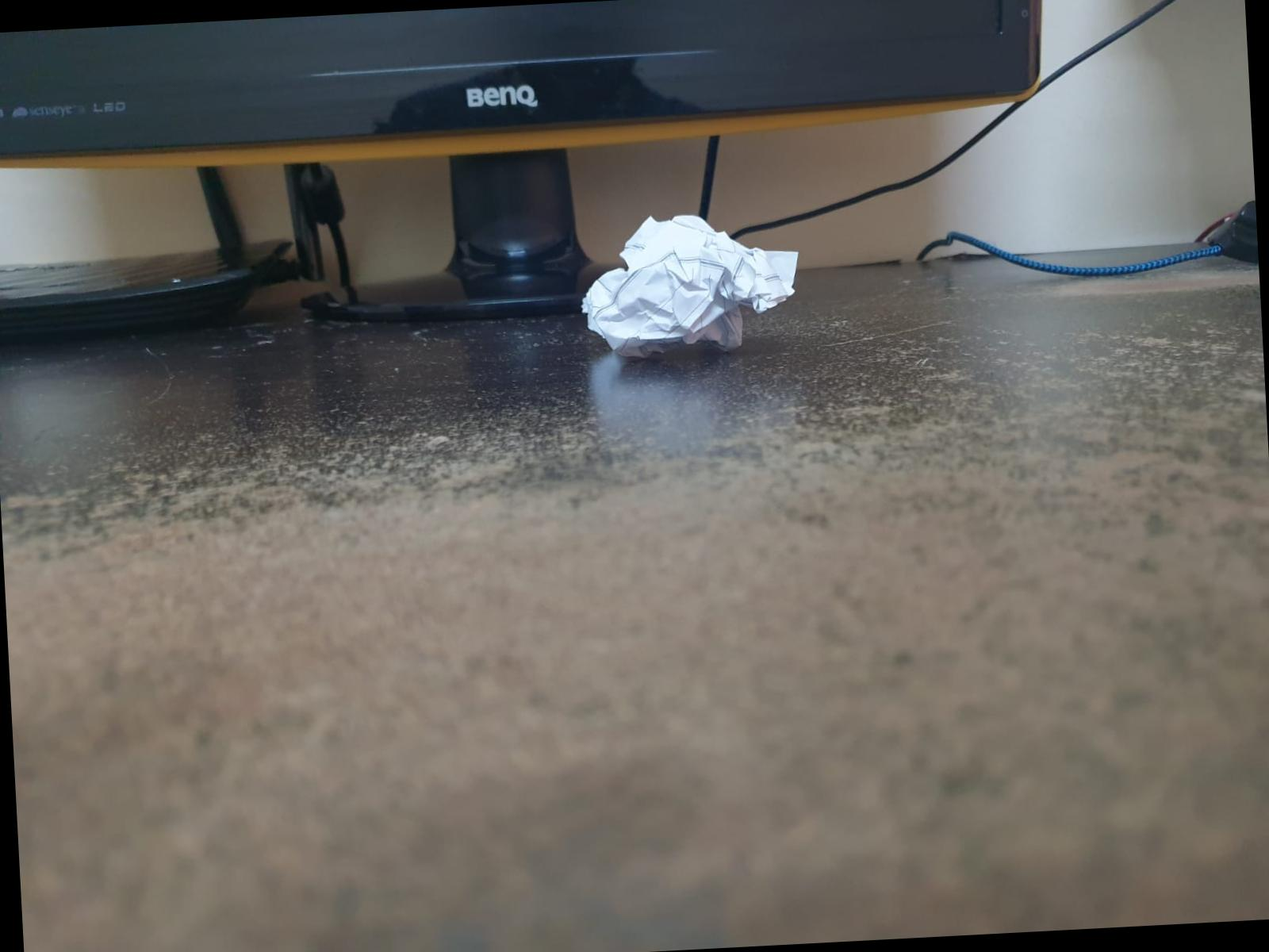Kertas: (584, 206, 812, 360)
